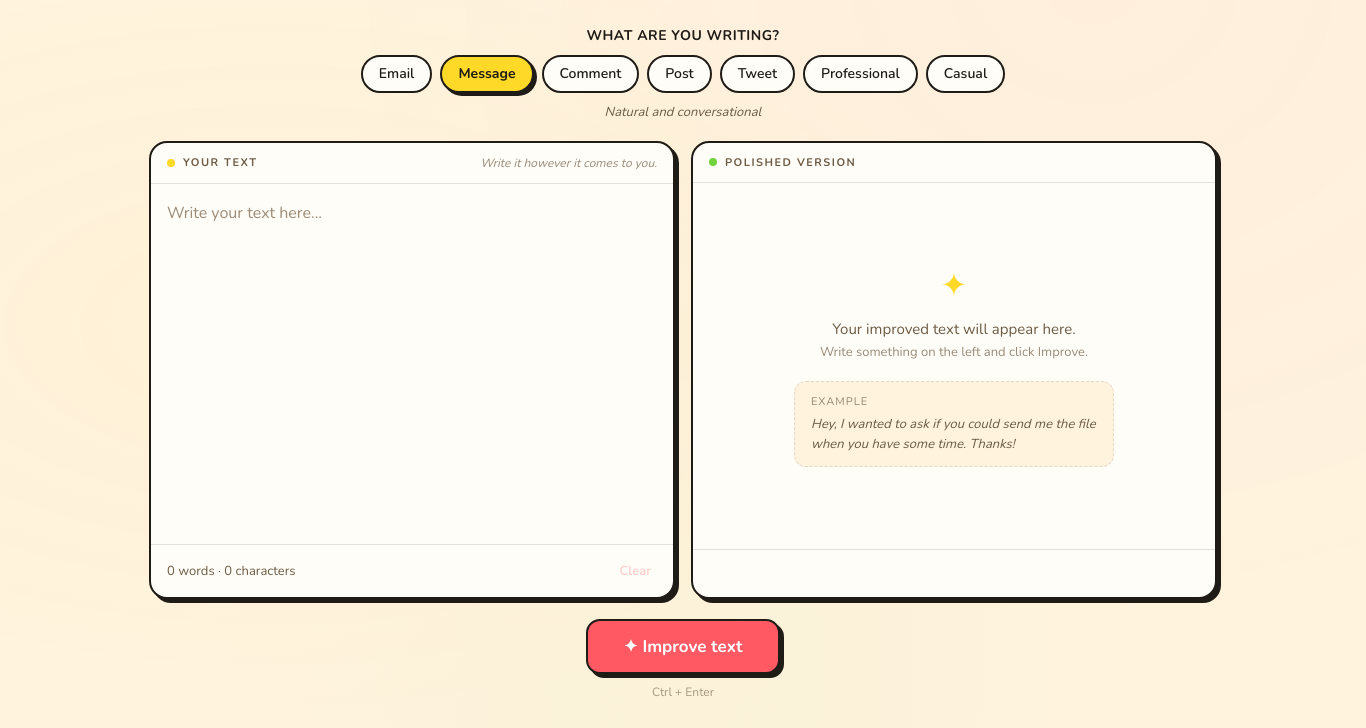
Page Component › successful API response shows result text
(page scrolled)
In the text box with placeholder "Write your text here...": [412, 364] box [151,184,673,544], type "rough text"
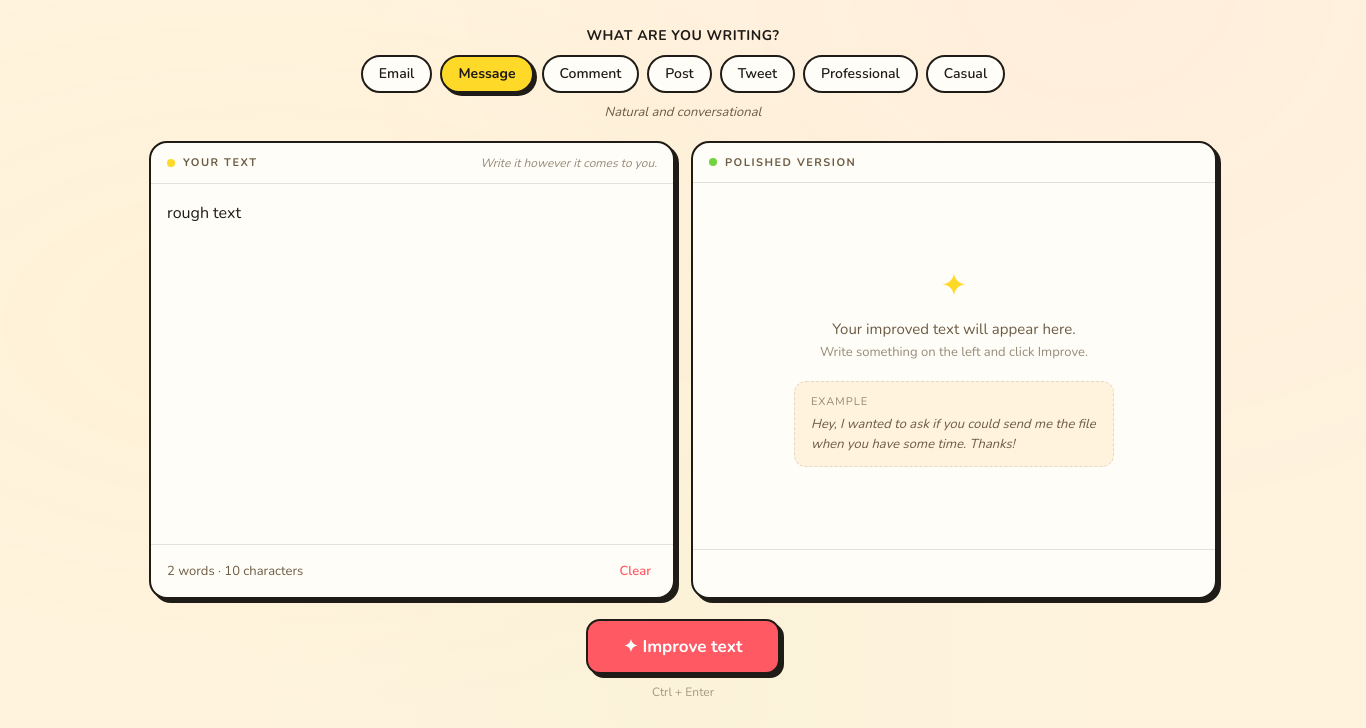
Click the button "✦ Improve text": [683, 646] box [586,619,780,674]
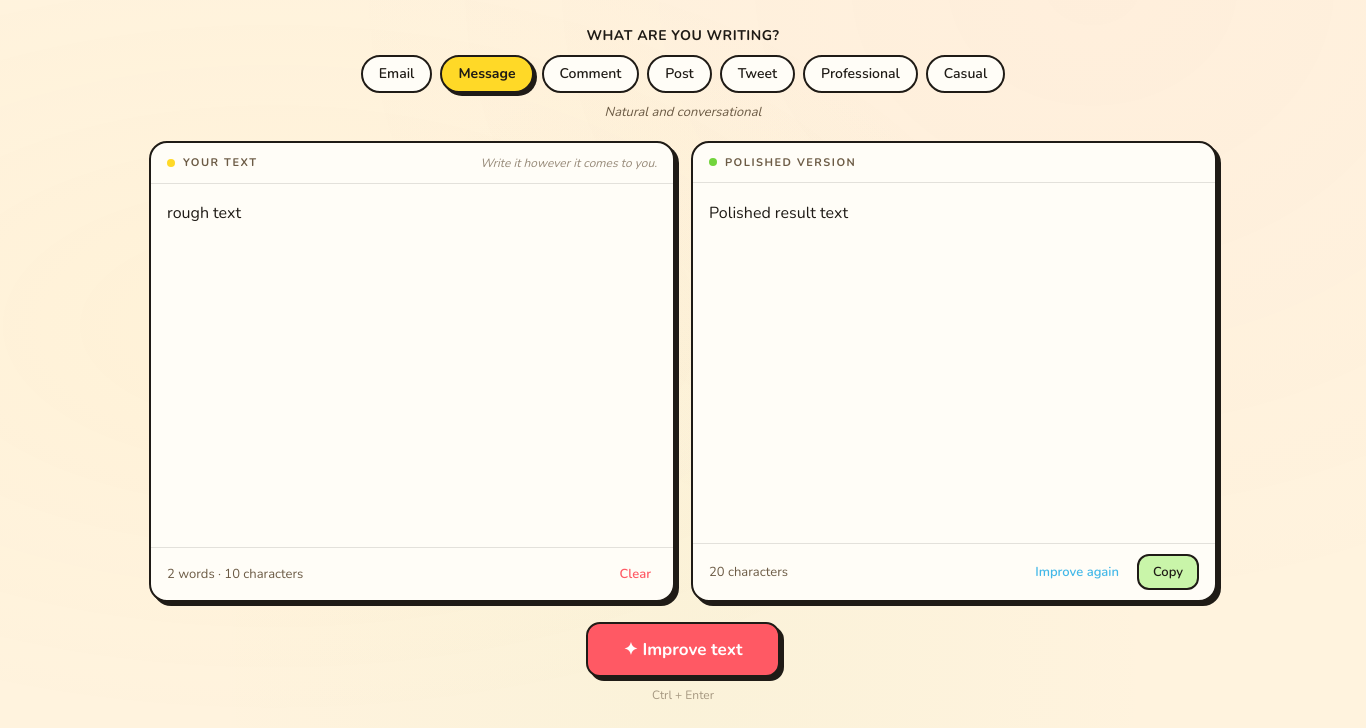
expect the text "Polished result text" is shown: met, box [709,202,848,224]
